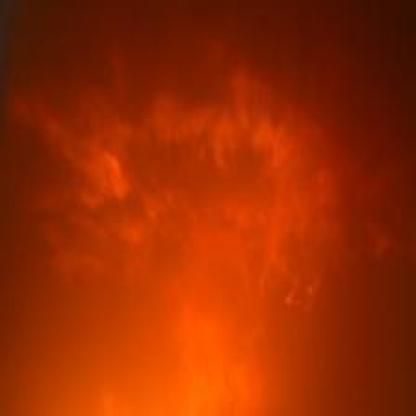fire: (7, 57, 398, 410)
